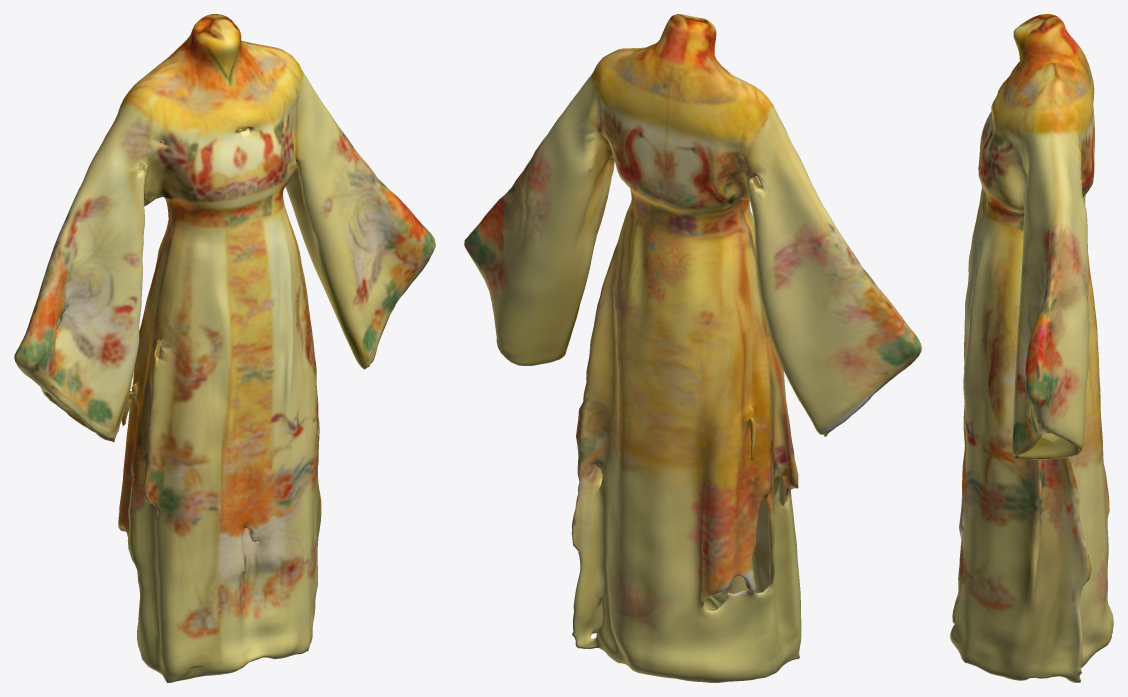
3 renders of one model, left to right at view 1: azimuth 30°, elevation 25°; view 2: azimuth 150°, elevation 25°; view 3: azimuth 270°, elevation 25°, orthographic. The views are drawn at different scales.
Visible parts, largest first — view 1: Mesh_0; view 2: Mesh_0; view 3: Mesh_0.
Boxes of the visible parts, bbox=[...] form: Mesh_0: bbox=[14, 14, 435, 682]; Mesh_0: bbox=[464, 14, 921, 682]; Mesh_0: bbox=[950, 14, 1113, 682].
Bounding box in the file's own units: 1.43 × 1.99 × 0.4696.
1 material, 1 textured.
